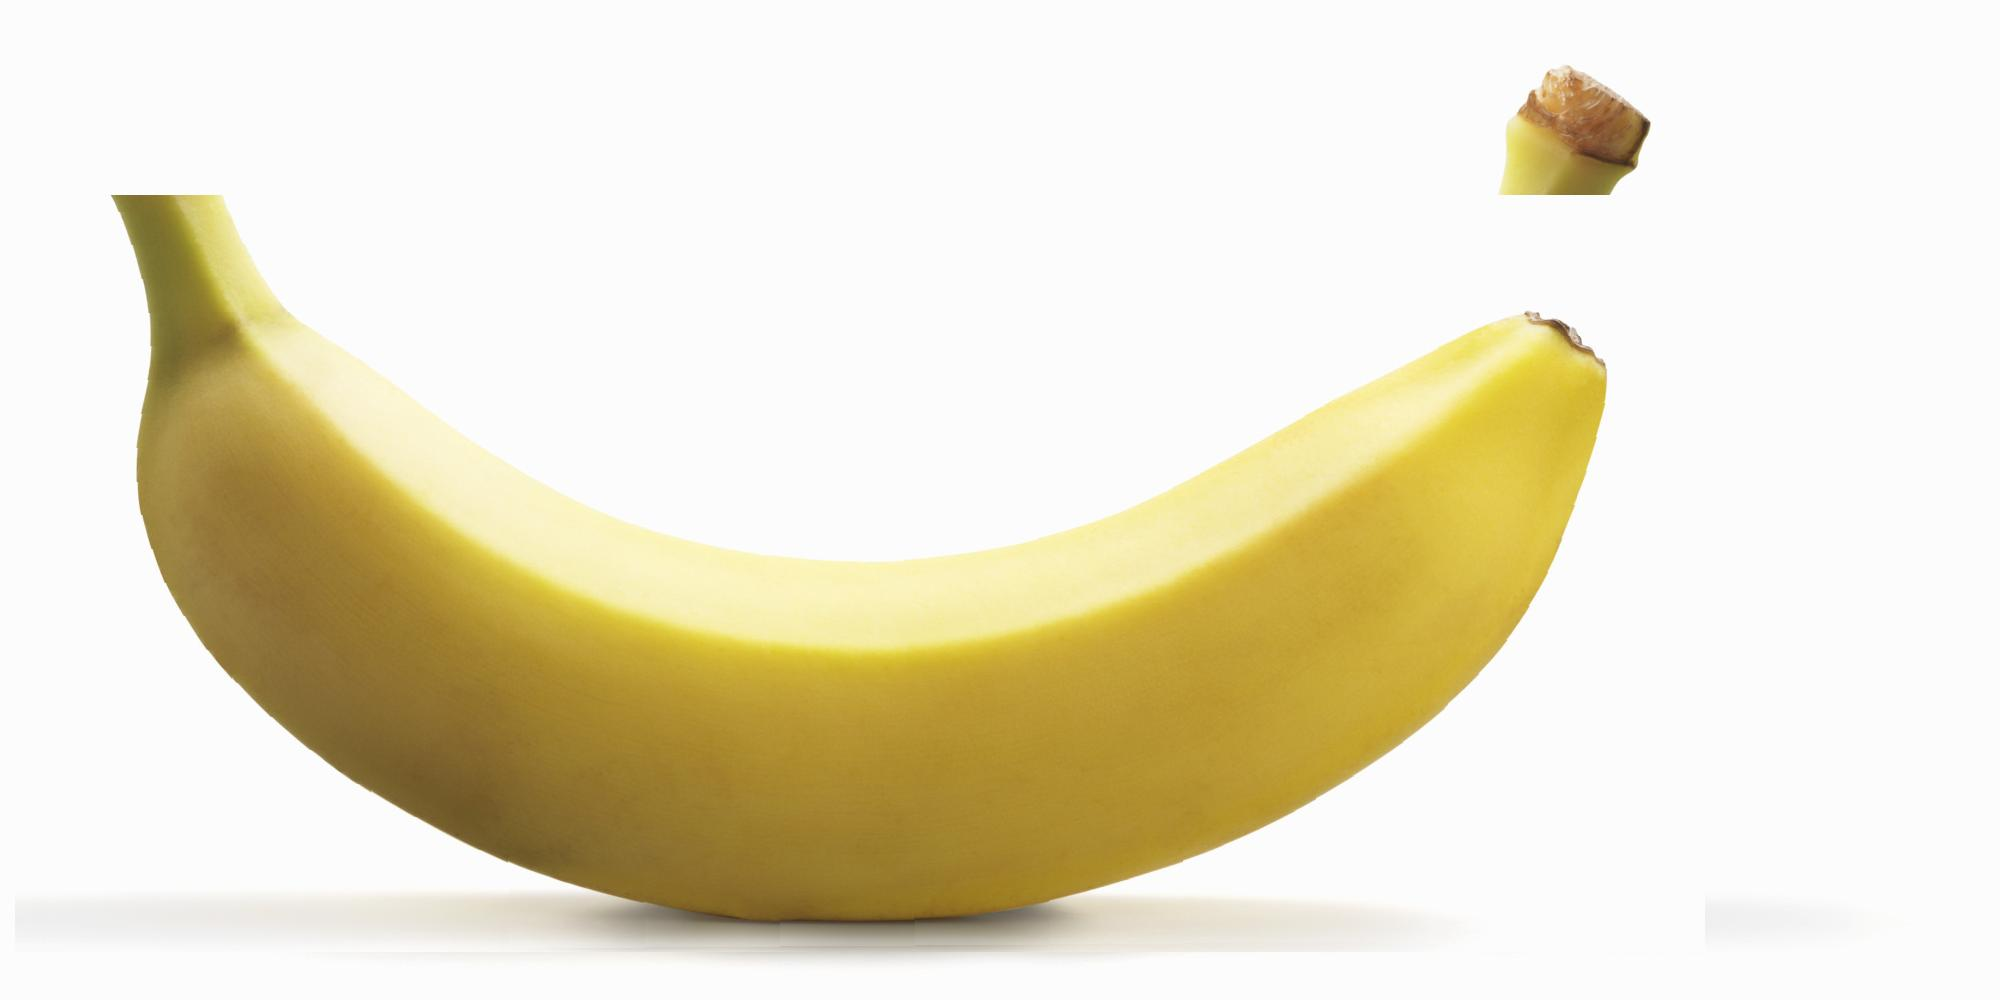Banana Fresh: (15, 195, 1705, 953)
